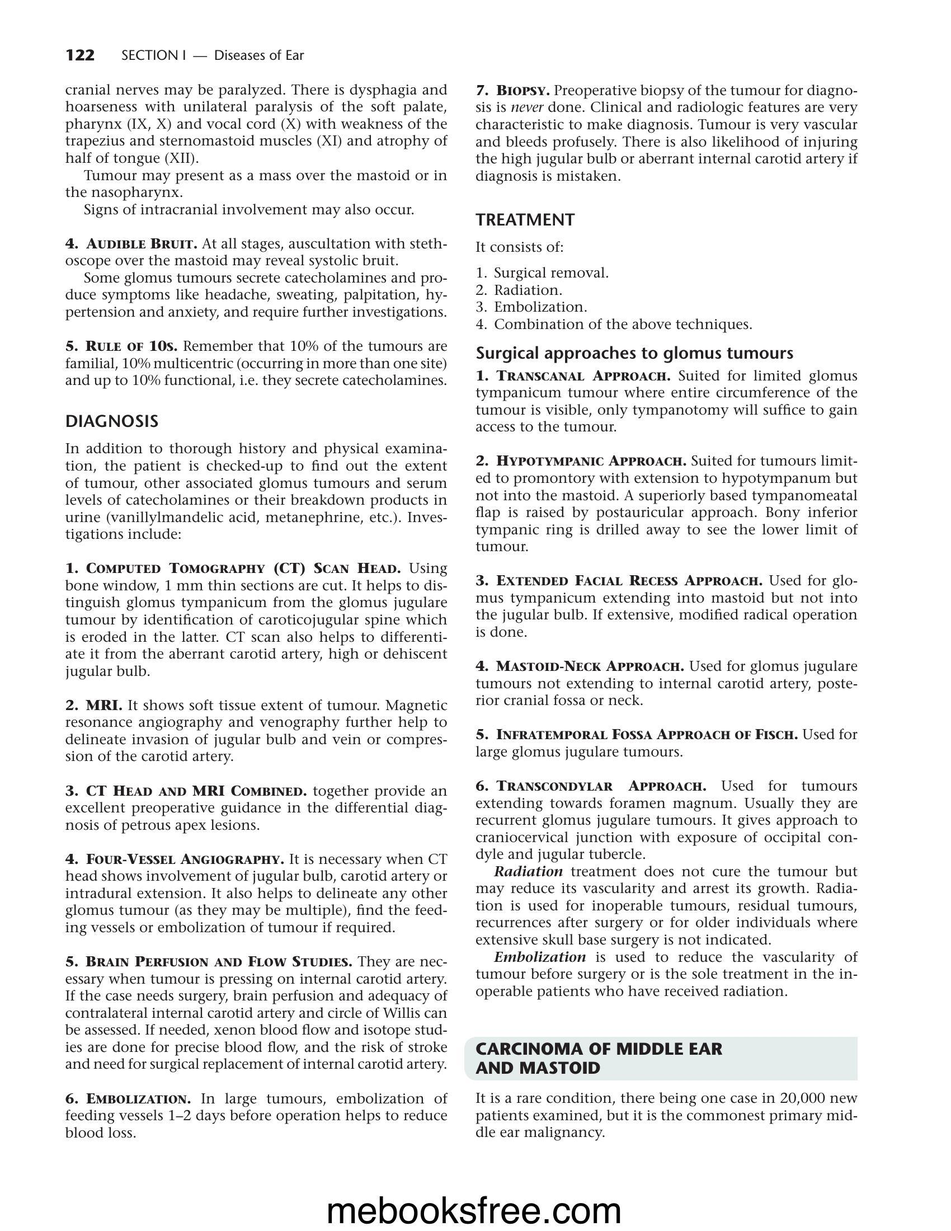header: (122, 49, 305, 62)
list: (63, 559, 449, 1141), (474, 367, 858, 863), (475, 83, 858, 185), (475, 266, 753, 335)
section-heading: (474, 1041, 725, 1076)
sub-section-heading: (475, 345, 795, 365), (475, 210, 577, 228), (64, 413, 159, 429)
text: (64, 84, 448, 392), (475, 864, 860, 1002), (63, 440, 447, 545), (474, 1091, 858, 1142), (474, 241, 567, 253)
